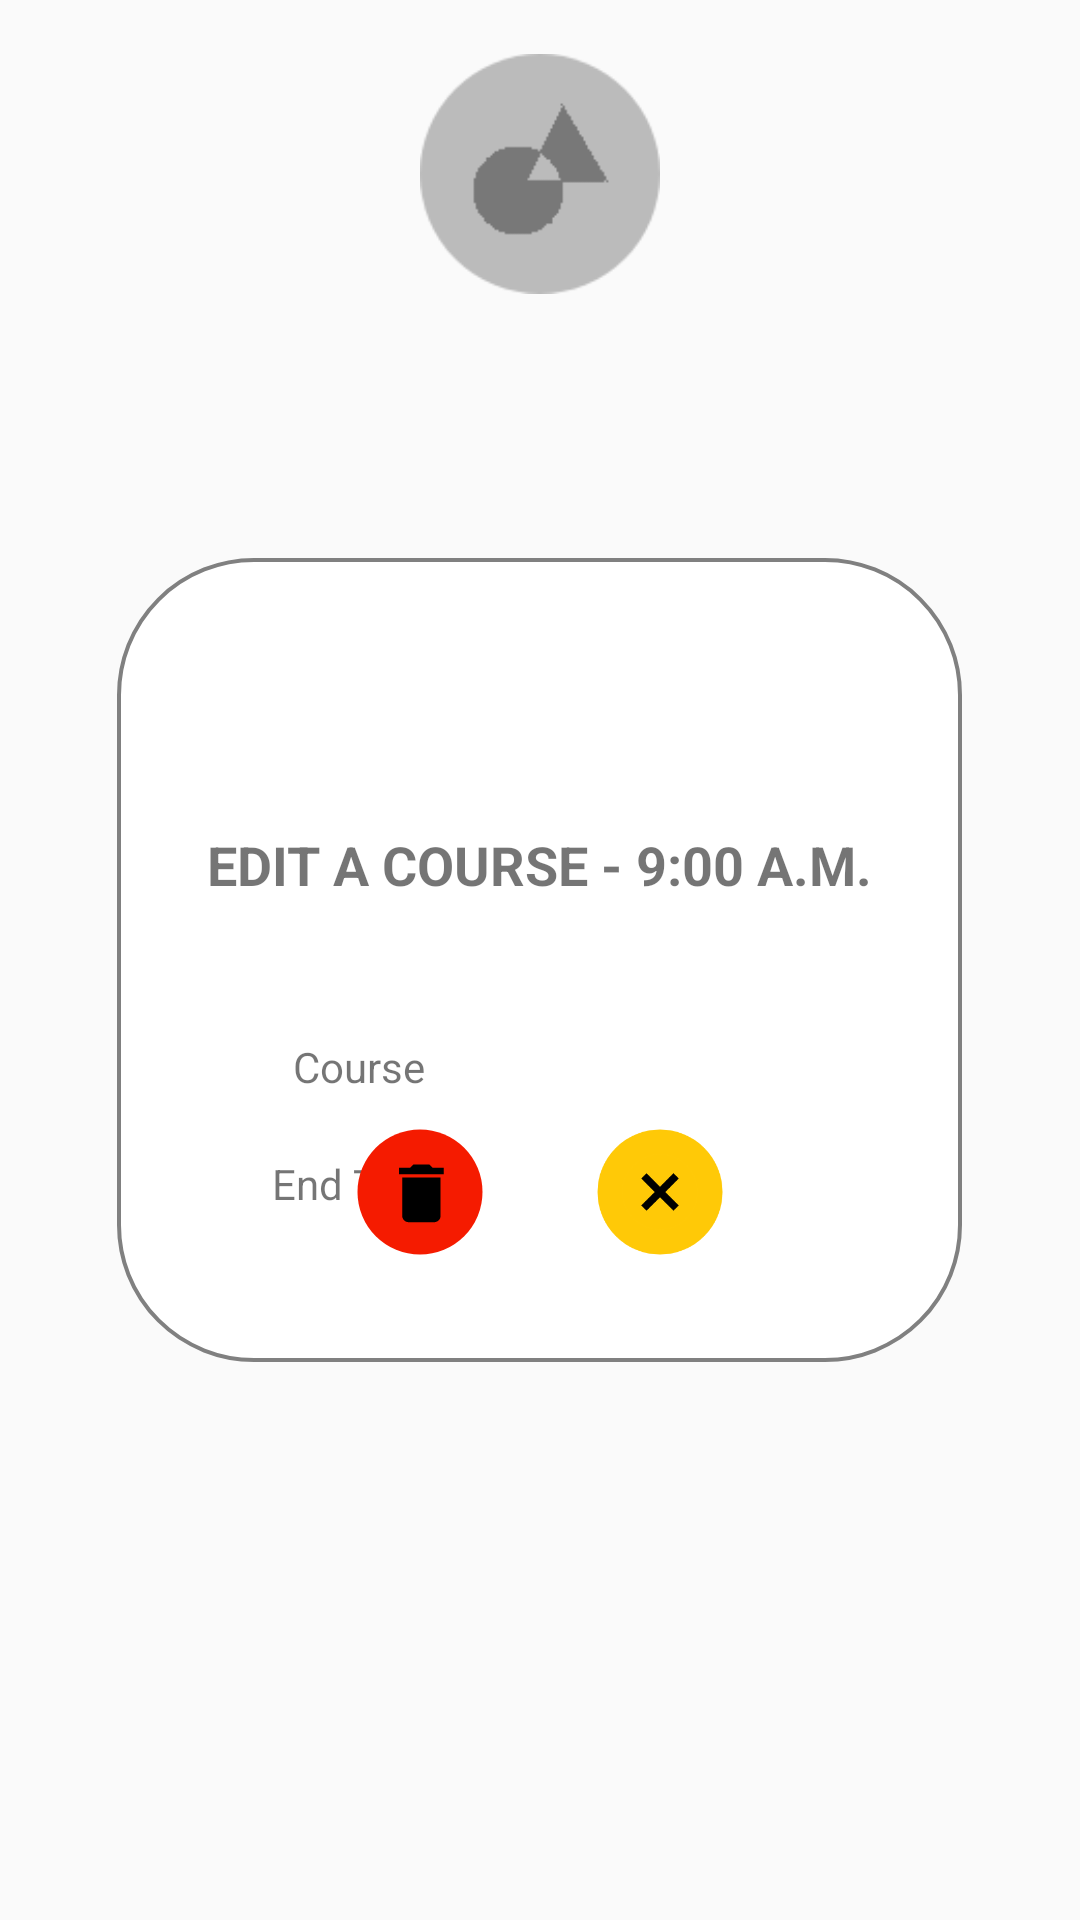

Screen size 1080x1920. Icon name, then its center in pixels as (x,y):
cancel: (660,1192)
delete: (418,1192)
